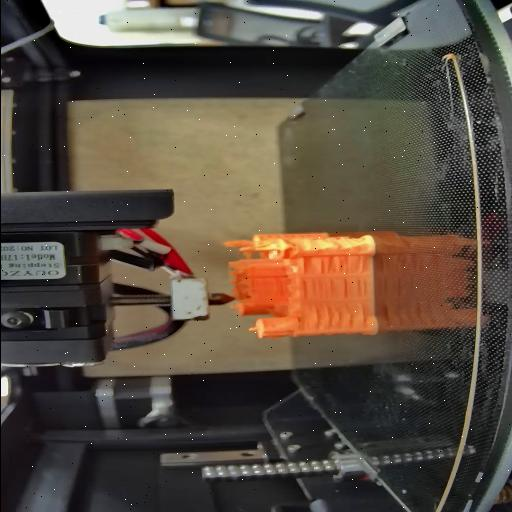cracks: (314, 303, 364, 331), (317, 256, 365, 274), (302, 278, 332, 300), (340, 278, 366, 300), (296, 256, 306, 274), (293, 313, 303, 325)
